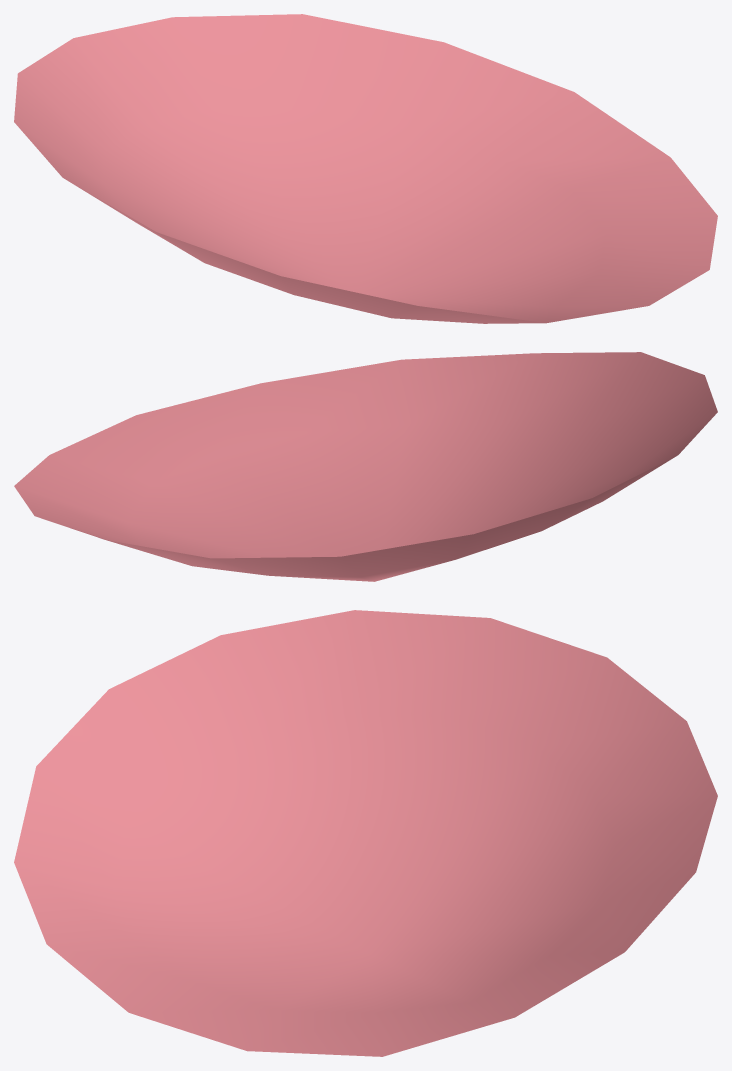
The model's file is Pinball_BlackHall_T.fbx.
3 renders of one model, top to bottom at view 1: azimuth 30°, elevation 25°; view 2: azimuth 150°, elevation 25°; view 3: azimuth 270°, elevation 25°, orthographic.
Visible parts, largest first — view 1: Pinball_BlackHall_T; view 2: Pinball_BlackHall_T; view 3: Pinball_BlackHall_T.
Part boxes in pixels (bbox=[...]): Pinball_BlackHall_T: bbox=[14, 14, 717, 323]; Pinball_BlackHall_T: bbox=[14, 352, 717, 581]; Pinball_BlackHall_T: bbox=[14, 610, 717, 1056].
Size of the model in its own units: 171 by 51.79 by 167.
